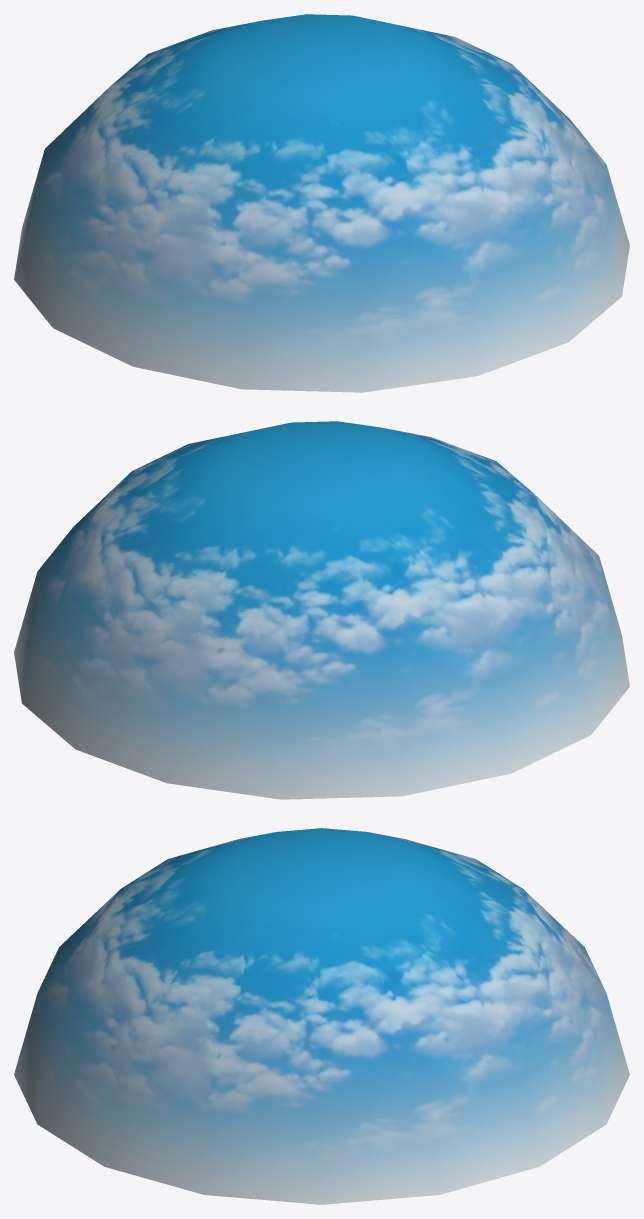
The model's file is BattleArea_Dun00301.fbx.
3 renders of one model, top to bottom at view 1: azimuth 30°, elevation 25°; view 2: azimuth 150°, elevation 25°; view 3: azimuth 270°, elevation 25°, orthographic.
Parts seen in each view (by area): view 1: sky_01_001; view 2: sky_01_001; view 3: sky_01_001.
Boxes of the visible parts, <box> form: sky_01_001: <box>14,14,629,392</box>; sky_01_001: <box>14,421,629,799</box>; sky_01_001: <box>14,828,629,1204</box>.
Size of the model in its own units: 236 by 90.66 by 236.
